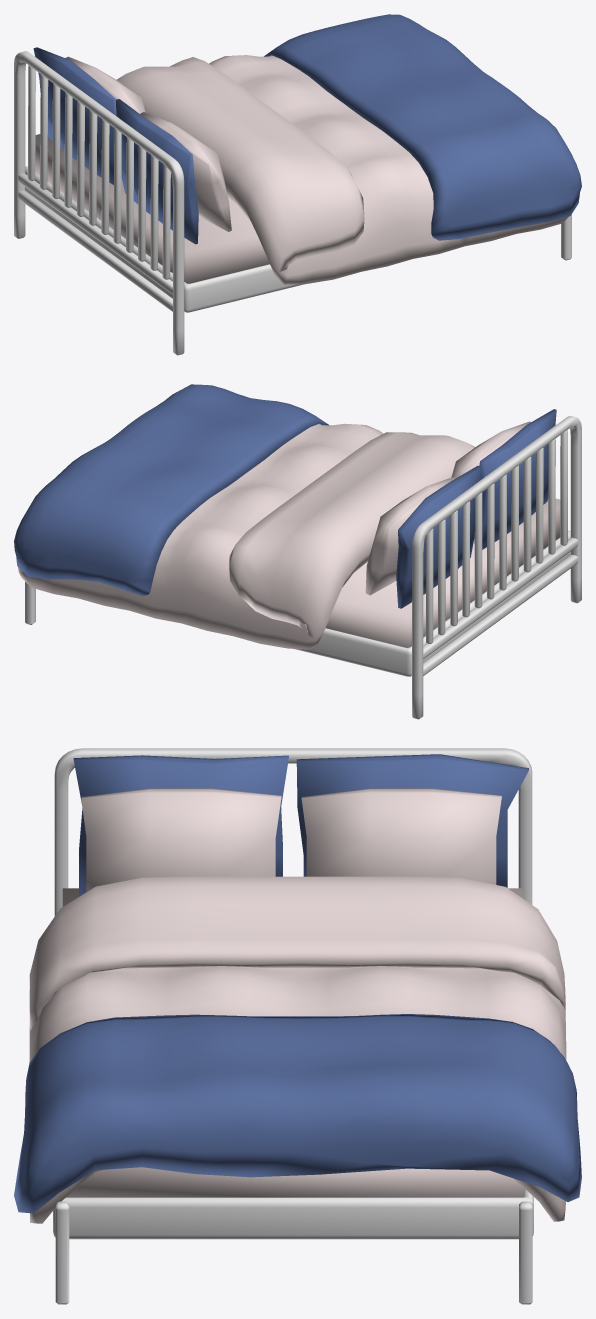
Rendered from Bed_1_size_03.fbx.
The picture shows the model from 3 angles, top to bottom: view 1: azimuth 30°, elevation 25°; view 2: azimuth 150°, elevation 25°; view 3: azimuth 270°, elevation 25°; orthographic projection. The views are drawn at different scales.
Visible parts, largest first — view 1: Bed_1_size_03; view 2: Bed_1_size_03; view 3: Bed_1_size_03.
Part boxes in pixels (box(x1,y1,x2,y2)): Bed_1_size_03: box(14, 14, 581, 355); Bed_1_size_03: box(14, 384, 581, 719); Bed_1_size_03: box(14, 748, 581, 1304).
Bounding box in the file's own units: 210 × 97.09 × 177.
